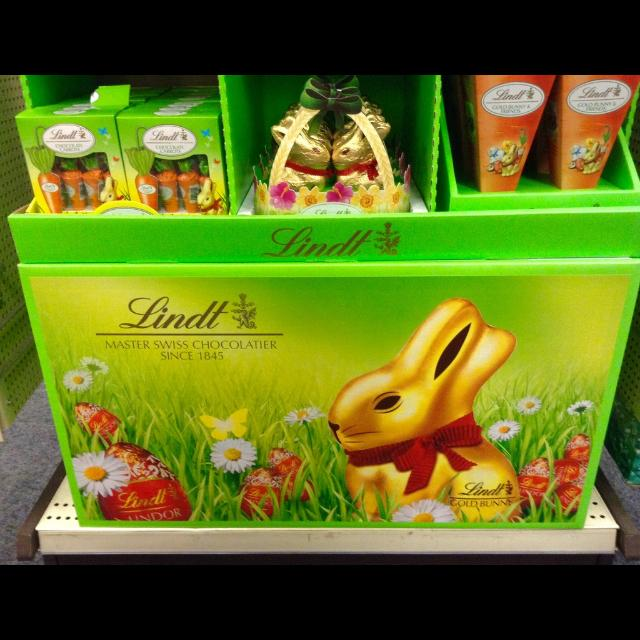Flower: (204, 420, 252, 484), (71, 454, 135, 496), (388, 497, 468, 528), (200, 405, 256, 441), (486, 420, 522, 444), (285, 405, 329, 423), (62, 369, 96, 391), (518, 394, 548, 418), (562, 400, 596, 416), (79, 356, 107, 374)
